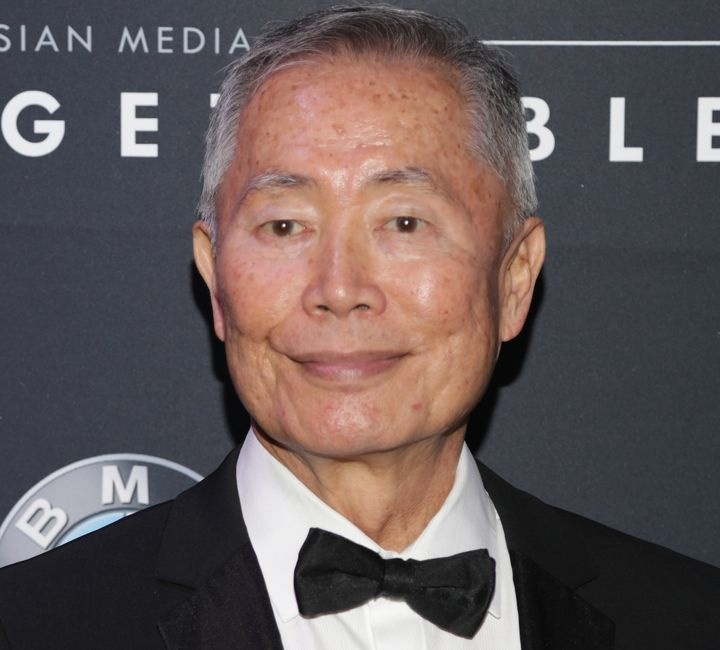mouth: (287, 345, 413, 384)
nose: (301, 284, 387, 315)
